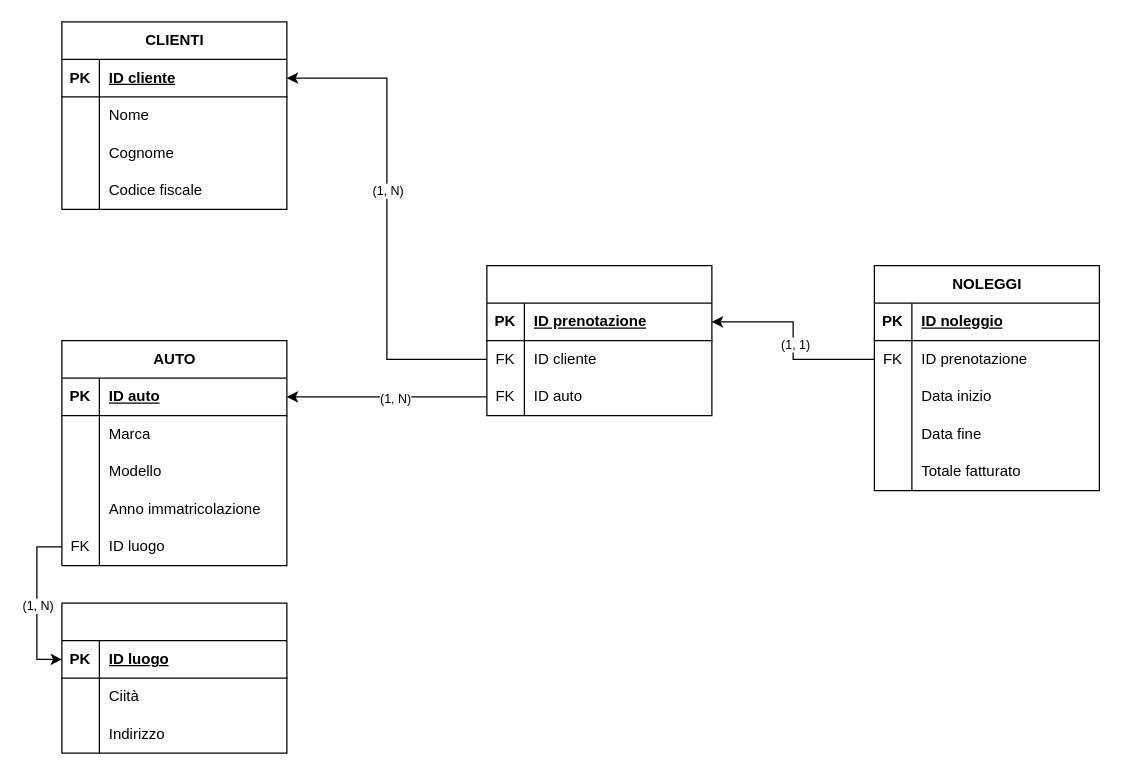
Image size: 1121x775. Some labels were removed from this diagram. Each missing label, with the box of its shape:
LUOGHI: (61, 602, 287, 753)
PRENOTAZIONI: (486, 264, 712, 416)
